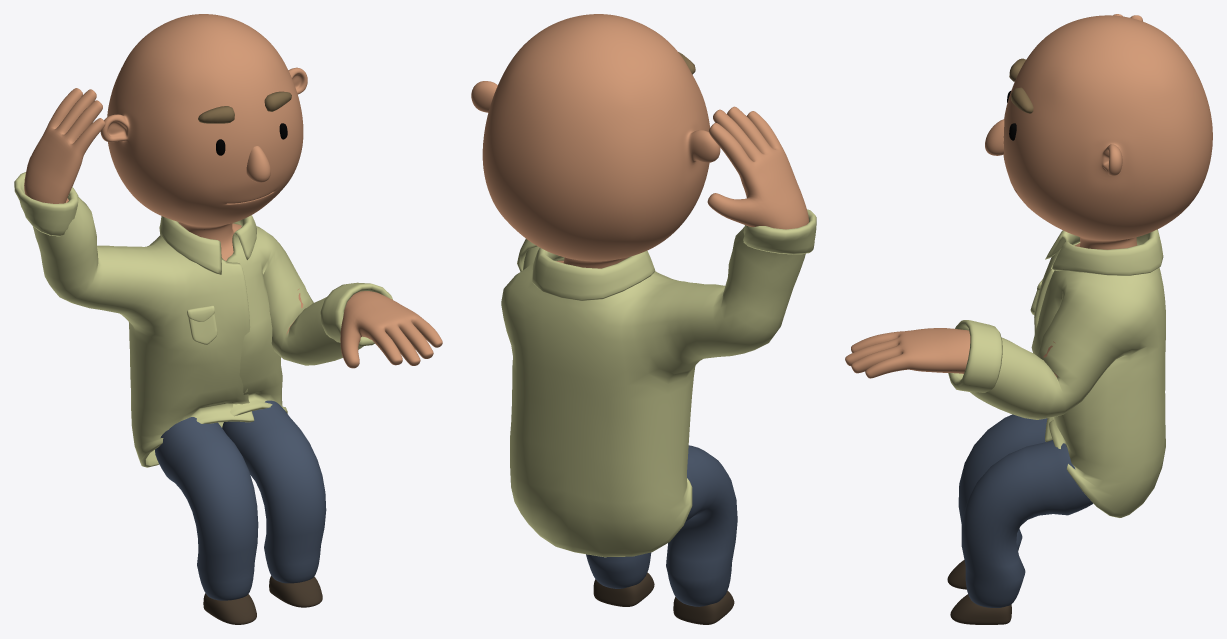
Rendered from webmarketeur.gltf.
The picture shows the model from 3 angles, left to right: view 1: azimuth 30°, elevation 25°; view 2: azimuth 150°, elevation 25°; view 3: azimuth 270°, elevation 25°; orthographic projection. The views are drawn at different scales.
Parts seen in each view (by area): view 1: body.001, Shirt.001, Cube.020, Cube.019, Cube.022, Cube.021, Eyebrow.001, nose.001; view 2: Shirt.001, body.001, Cube.020, Cube.019, Cube.021, Cube.022; view 3: body.001, Shirt.001, Cube.019, Cube.020, Cube.022, Eyebrow.001, nose.001.
Part boxes in pixels (x1,y1,x2,y2): body.001: (24,14,442,368); Shirt.001: (14,172,392,467); Cube.020: (155,417,258,600); Cube.019: (222,400,326,583); Cube.022: (269,576,322,607); Cube.021: (203,593,256,624); Eyebrow.001: (198,91,291,123); nose.001: (246,146,270,182); Shirt.001: (501,209,816,557); body.001: (471,14,808,268); Cube.020: (666,445,737,606); Cube.019: (586,552,651,588); Cube.021: (673,590,734,624); Cube.022: (593,572,654,606); body.001: (845,14,1212,378); Shirt.001: (948,229,1165,517); Cube.019: (961,440,1093,607); Cube.020: (958,414,1047,550); Cube.022: (950,594,1011,624); Eyebrow.001: (1009,58,1033,113); nose.001: (985,119,1004,155).
Size of the model in its own units: 6.1 by 10.21 by 5.89.
